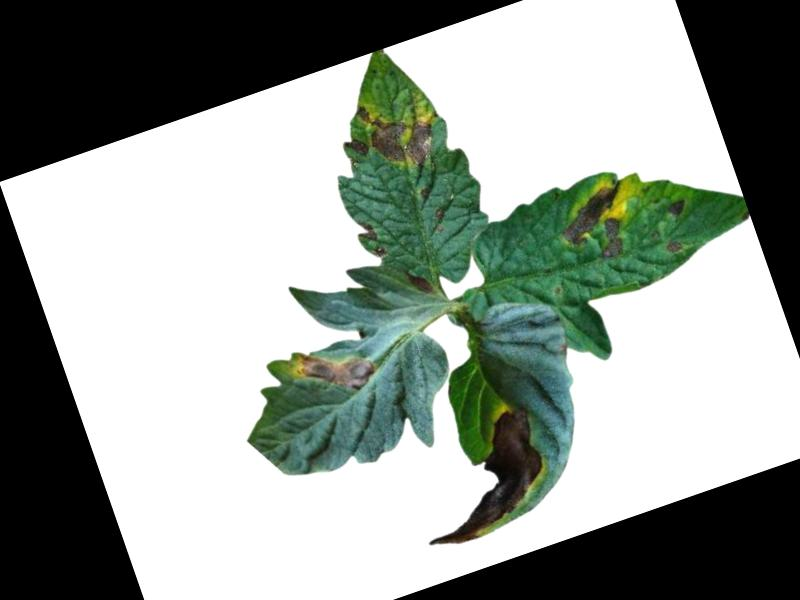Early_blight: (396, 404, 562, 554), (353, 83, 444, 182), (551, 178, 644, 272), (285, 329, 381, 410), (356, 216, 387, 263), (405, 263, 434, 300), (343, 134, 370, 163), (665, 197, 690, 222), (663, 237, 683, 255)
